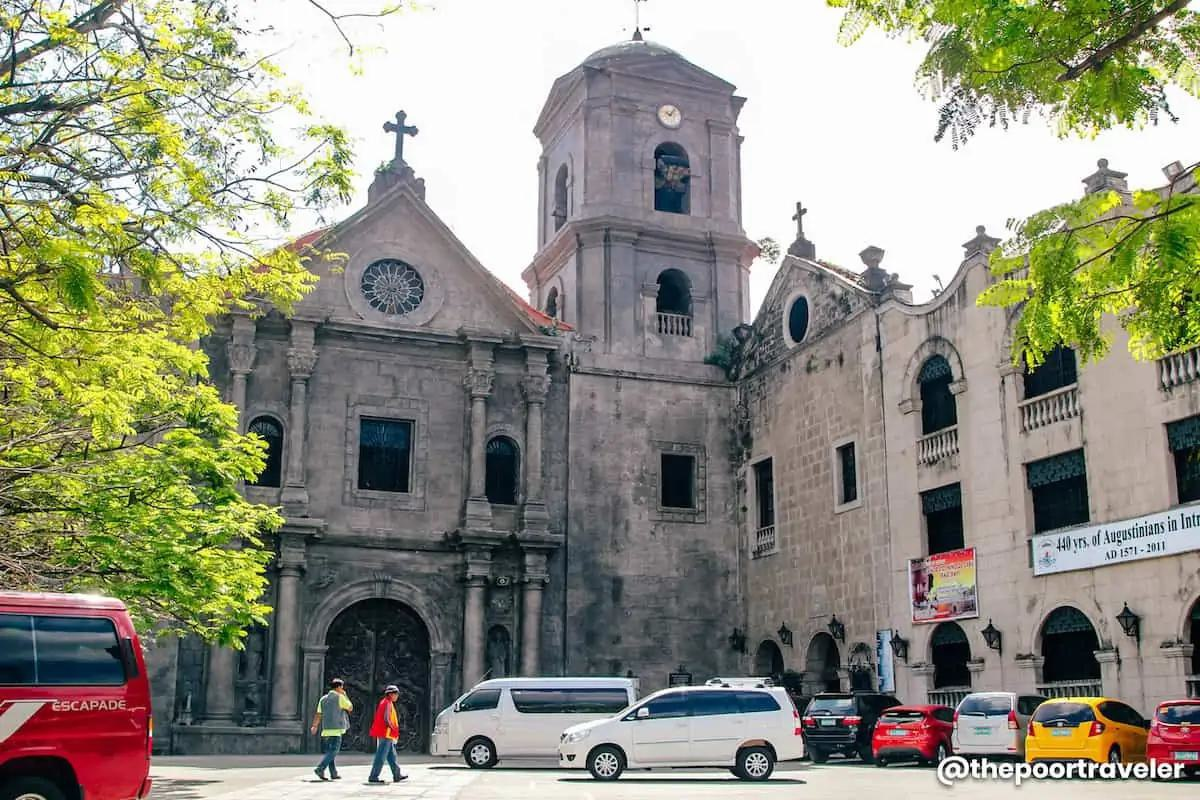san_agustin_church_intramuros_manila: (181, 5, 774, 760)
